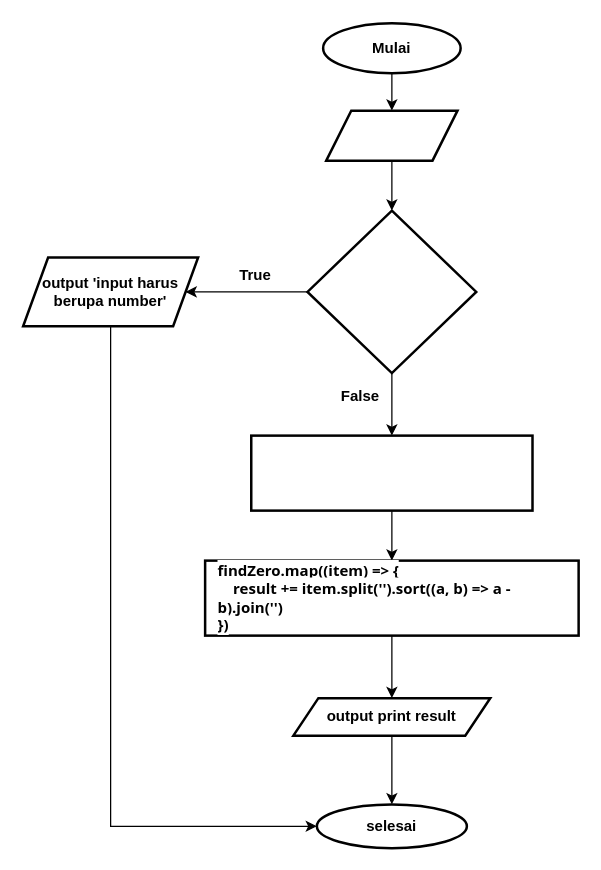
This 601x870 diagram has some shape labels left out. The centre of each missing label's shape, as x and y in pixels:
input num: the point at 391,135
let findZero = num.toString().split('0') let result = '': the point at 391,472
typeOf num !== 'number': the point at 391,291
